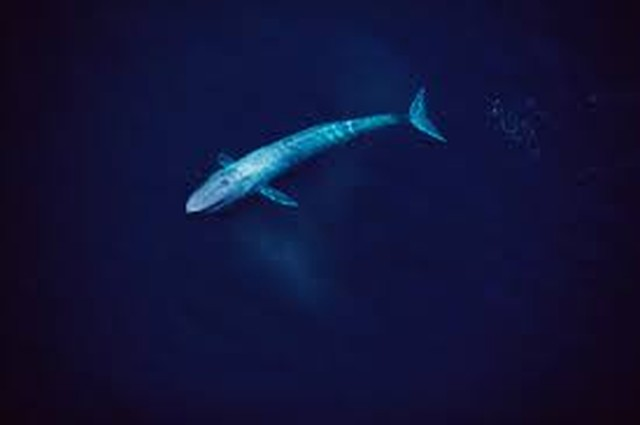whale: (173, 83, 455, 229)
